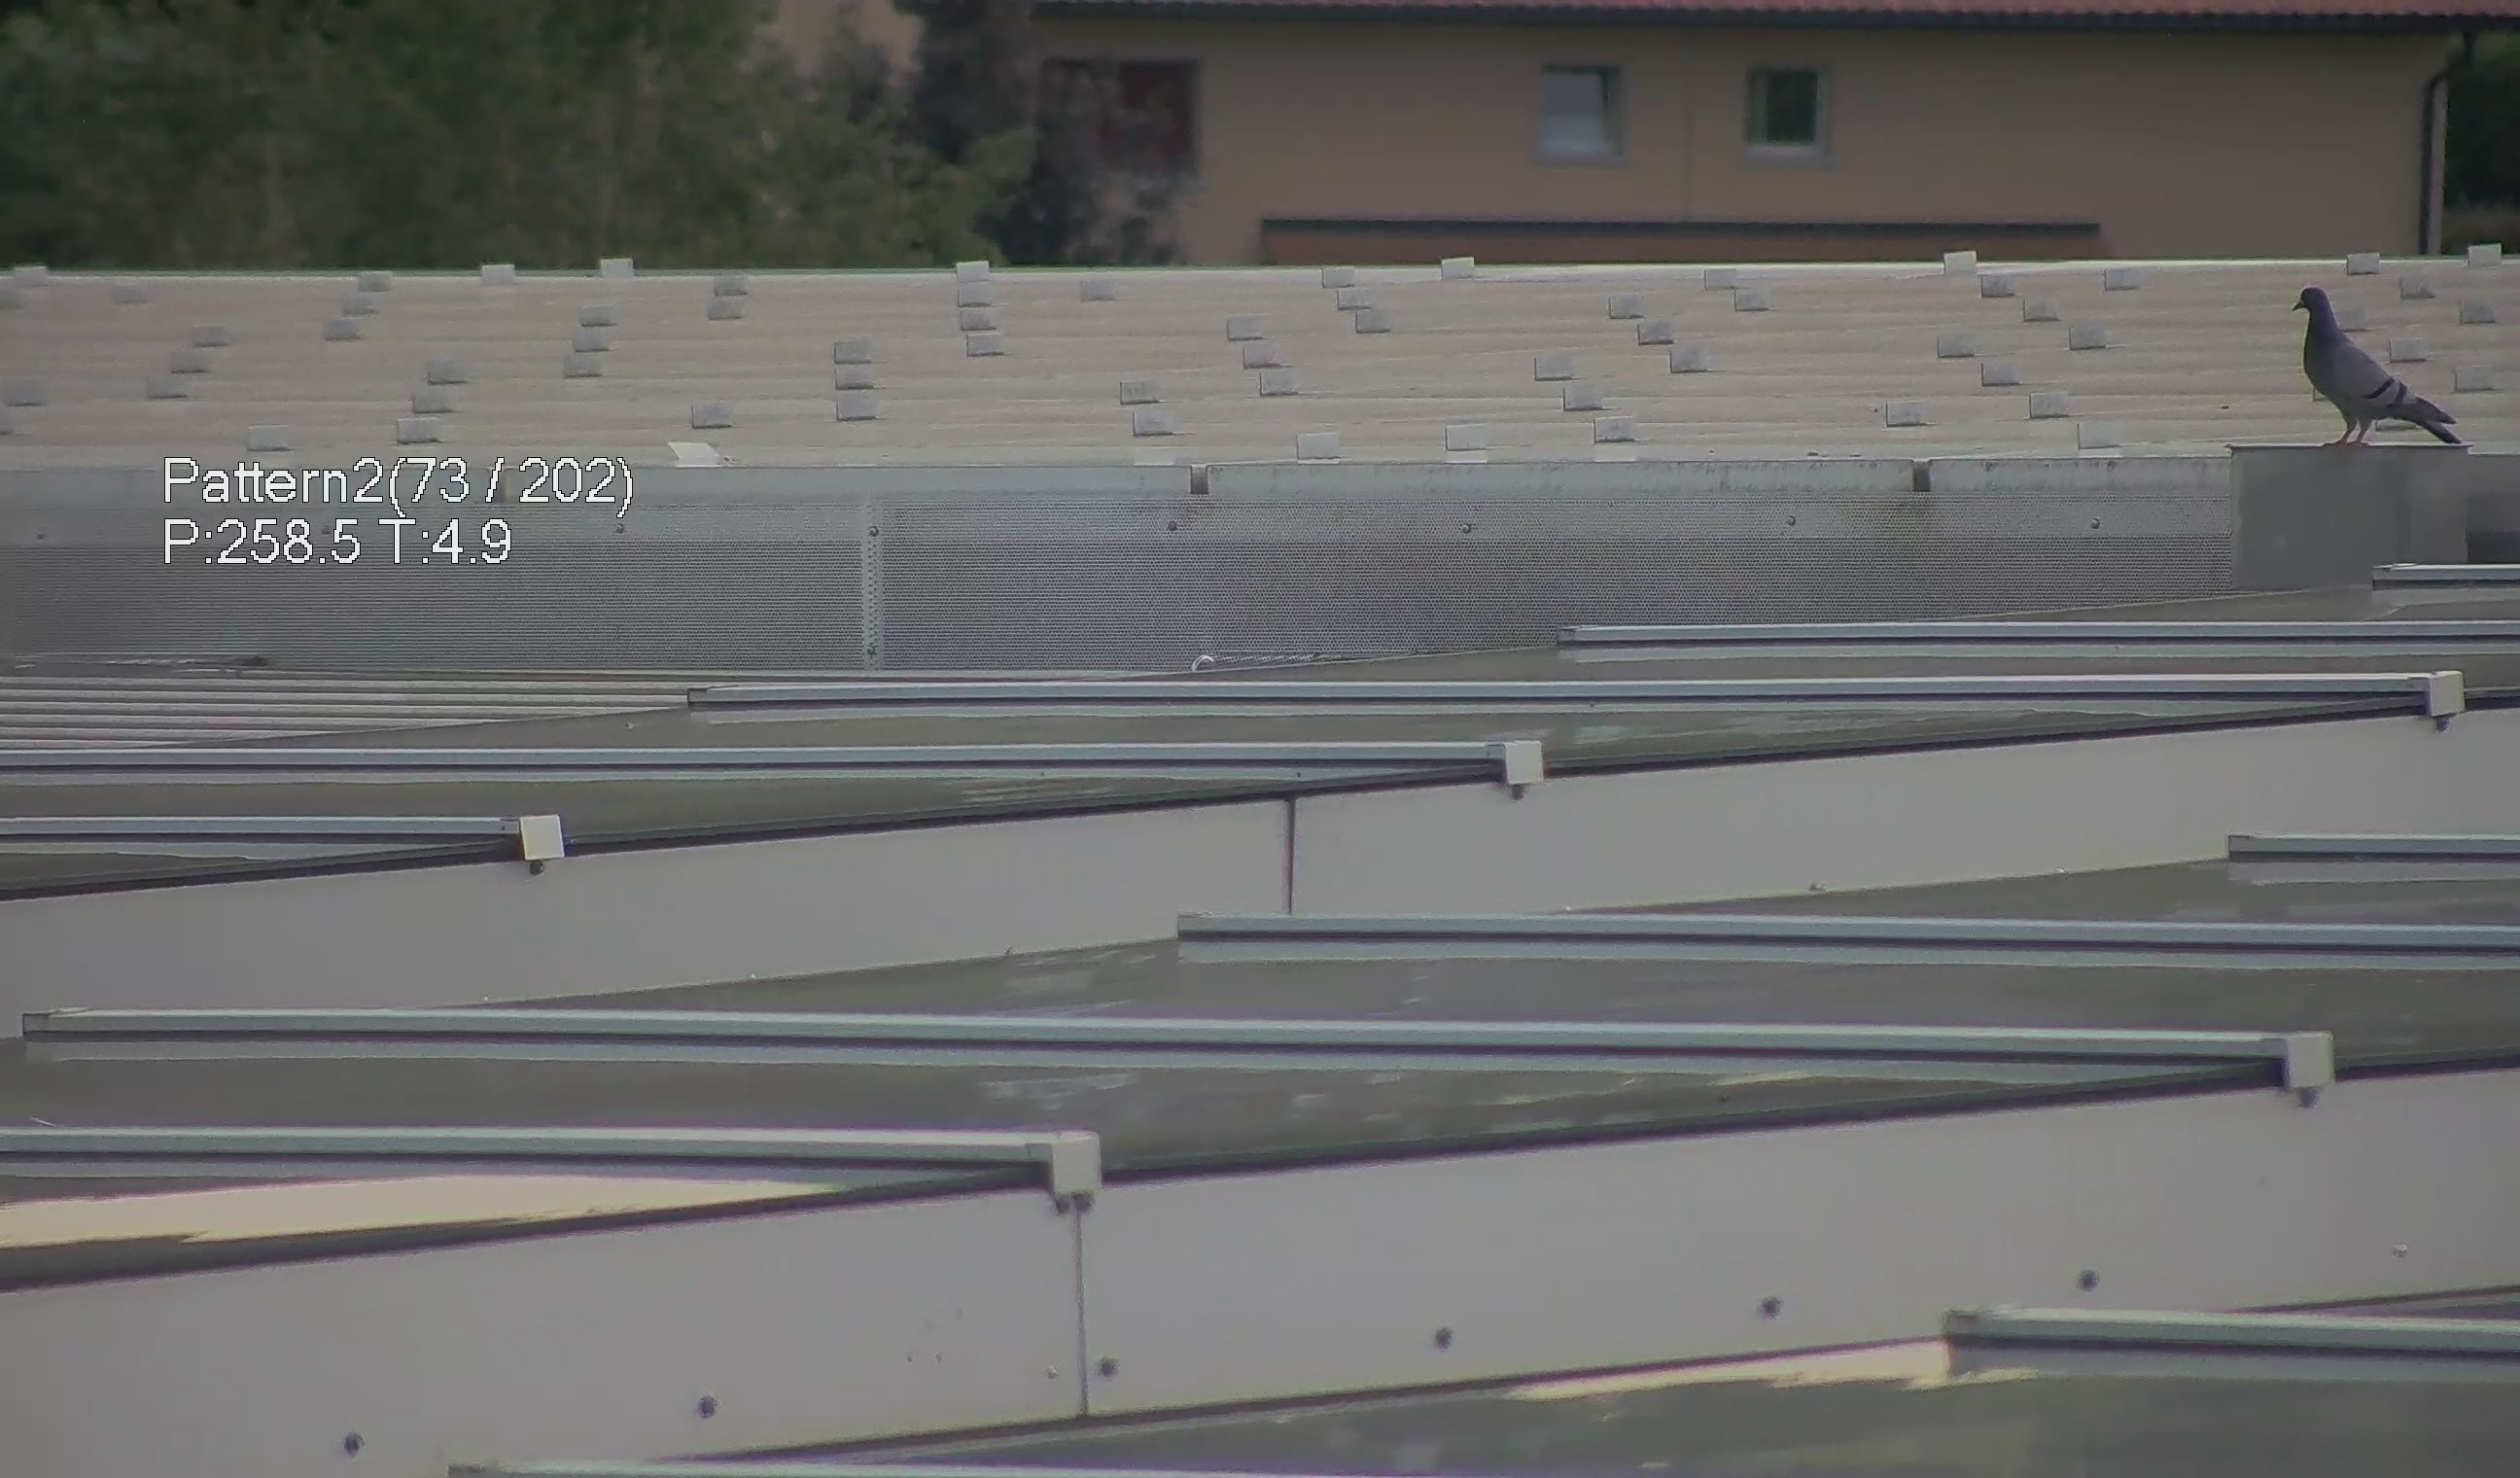Pigeon: (2286, 269, 2483, 457)
